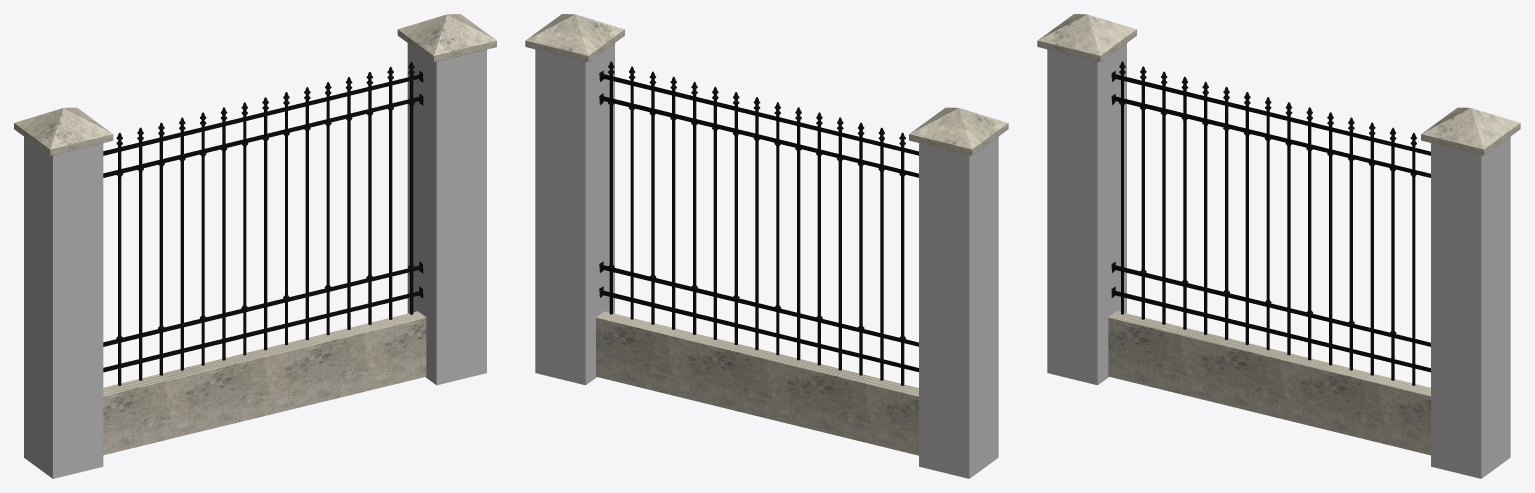
Rendered from Fence 10.FBX.
3 renders of one model, left to right at view 1: azimuth 30°, elevation 25°; view 2: azimuth 150°, elevation 25°; view 3: azimuth 330°, elevation 25°, orthographic.
Parts seen in each view (by area): view 1: fence 10, column 002, column 1; view 2: fence 10, column 002, column 1; view 3: fence 10, column 1, column 002.
Part boxes in pixels (box(x1,y1,x2,y2)): fence 10: box(103, 61, 426, 455); column 002: box(14, 107, 113, 478); column 1: box(397, 14, 496, 385); fence 10: box(596, 61, 918, 455); column 002: box(909, 107, 1008, 478); column 1: box(525, 14, 624, 385); fence 10: box(1108, 61, 1430, 455); column 1: box(1421, 107, 1520, 478); column 002: box(1037, 14, 1136, 385).
Bounding box in the file's own units: 3545 × 501 × 2687.
